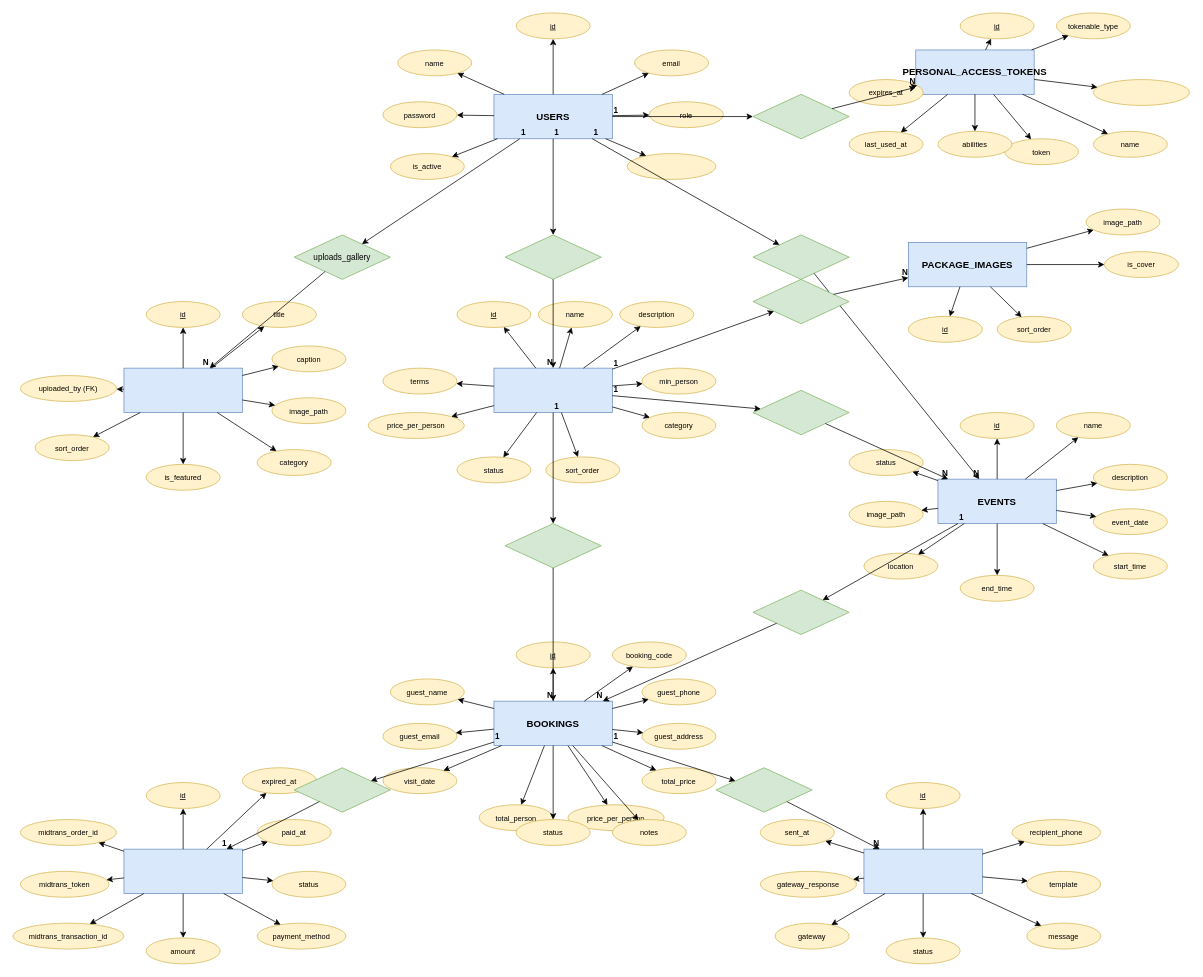
Some shapes in this 1203 by 977 pixel diagram are drawn without their labels. The shapes that lost their labels are listed below. From the top down, each one's centre as x and y in pixels, then its label:
pixel 1141 92: tokenable_id (FK)
pixel 800 116: authenticates
pixel 671 166: remember_token
pixel 552 256: creates_package
pixel 800 256: creates_event
pixel 800 301: has_images
pixel 182 390: GALLERIES
pixel 552 390: PACKAGES
pixel 800 412: has_events
pixel 552 545: booked_via
pixel 800 612: linked_to
pixel 341 789: paid_with
pixel 763 789: notified_via
pixel 182 871: PAYMENTS
pixel 922 871: WA_NOTIFICATIONS
